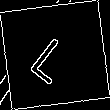L_NE: (27, 25, 83, 85)
